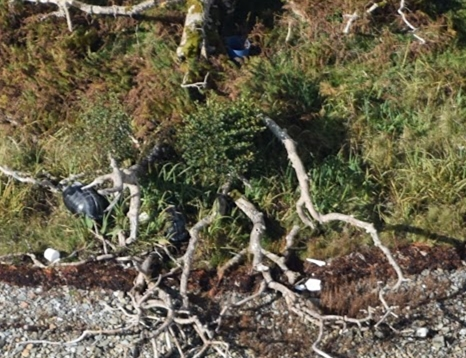white_in_green: (40, 159, 133, 239), (212, 19, 268, 75), (23, 230, 80, 276), (289, 263, 337, 304)
